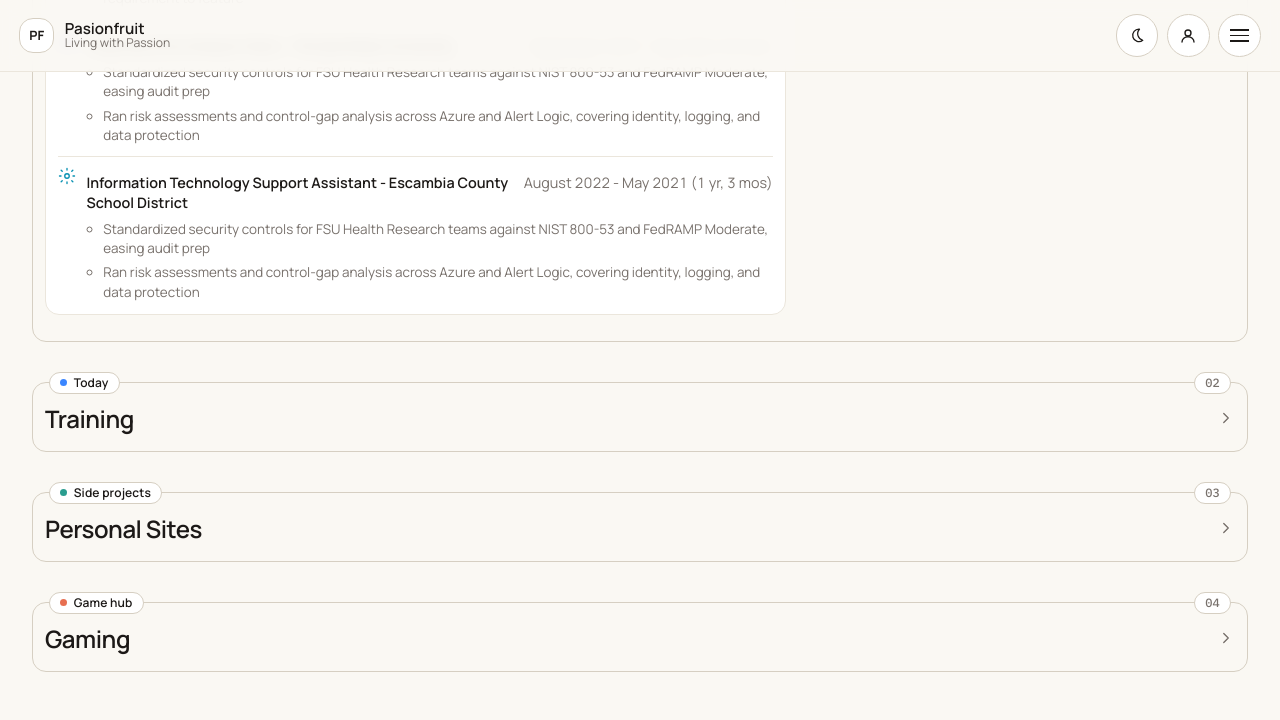
guest home page › shows only the server cards under Gaming
(page scrolled)
What coordinates should you click on to do the following:
click the button with class "home-section-toggle" showing "Game hub Gaming"
I would click on:
 (88, 639)
Its box is x1=45 y1=619 x2=1235 y2=659.
(page scrolled)
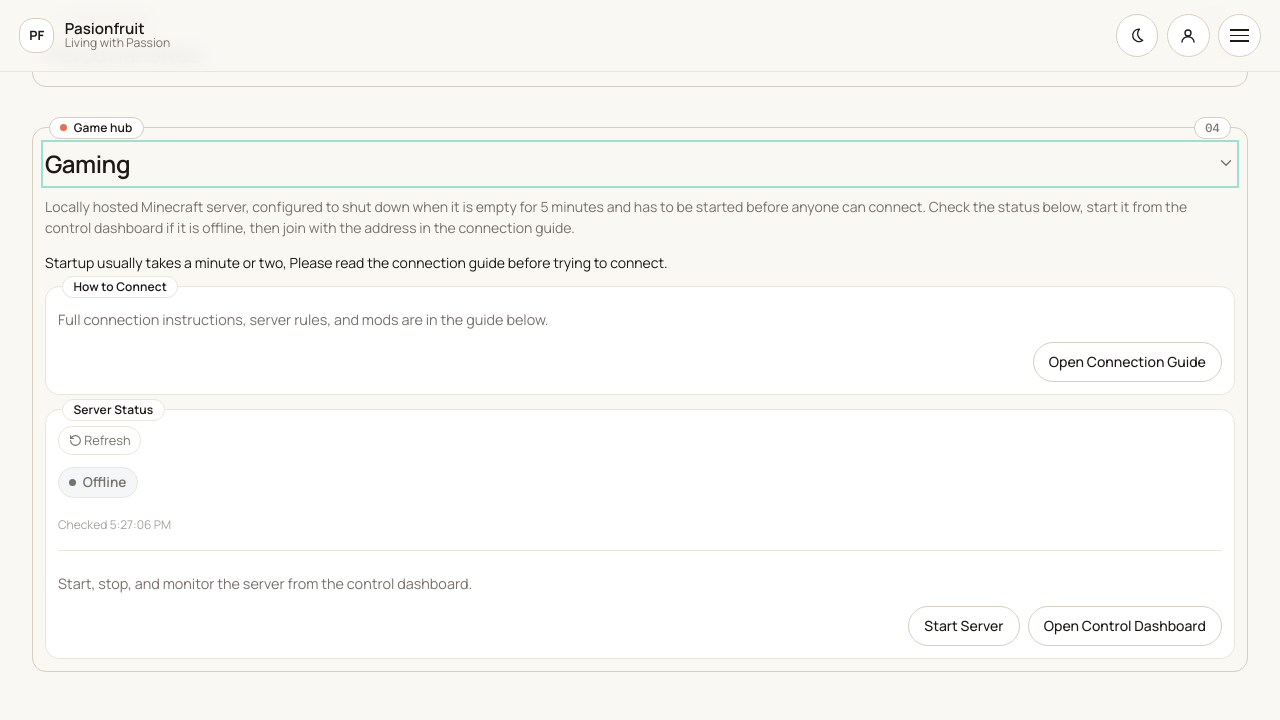
Result: the heading "Server Status" is shown at x1=62 y1=399 x2=165 y2=421
Result: the heading "How to Connect" is shown at x1=62 y1=276 x2=178 y2=298
Result: the link "Open Control Dashboard" is shown at x1=1028 y1=606 x2=1222 y2=646
